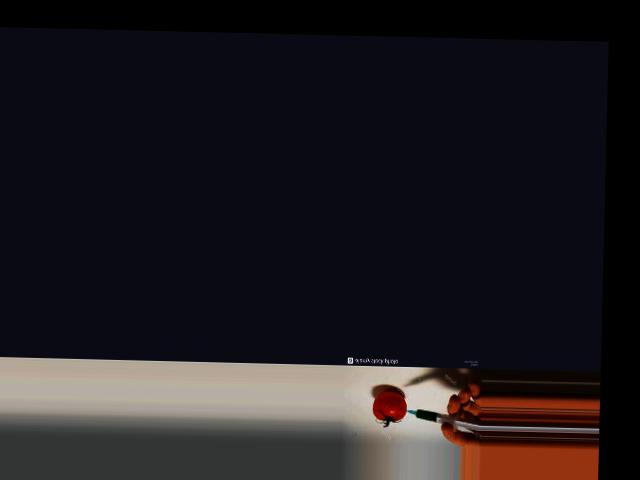tomato: (373, 390, 407, 420)
